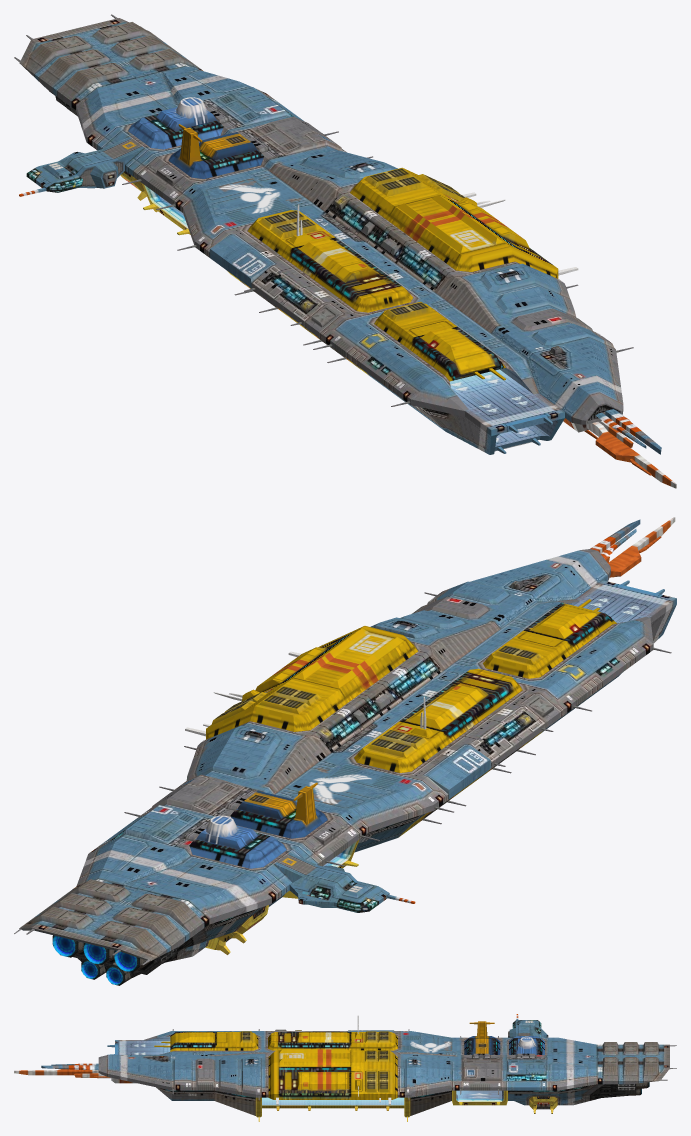
File: hgn-carrier.glb
3 renders of one model, top to bottom at view 1: azimuth 30°, elevation 25°; view 2: azimuth 150°, elevation 25°; view 3: azimuth 270°, elevation 25°, orthographic. The views are drawn at different scales.
Parts seen in each view (by area): view 1: Object_16, Object_17, Object_10, Object_6, Object_11, Object_8, Object_5, Object_2, Object_7, Object_4, Object_18, Object_9 (+1 smaller); view 2: Object_16, Object_17, Object_10, Object_2, Object_6, Object_11, Object_8, Object_5, Object_4, Object_7, Object_18, Object_9 (+3 smaller); view 3: Object_16, Object_17, Object_10, Object_11, Object_6, Object_8, Object_7, Object_5, Object_12, Object_18, Object_9, Object_4 (+2 smaller).
Part boxes in pixels (x1,y1,x2,y2): Object_16: [19, 18, 661, 454]; Object_17: [14, 14, 633, 453]; Object_10: [350, 167, 558, 278]; Object_6: [248, 210, 412, 312]; Object_11: [364, 168, 578, 275]; Object_8: [374, 303, 505, 381]; Object_5: [168, 124, 263, 178]; Object_2: [26, 137, 143, 192]; Object_7: [259, 204, 379, 282]; Object_4: [128, 97, 223, 149]; Object_18: [205, 174, 306, 217]; Object_9: [384, 301, 505, 380]; Object_16: [19, 519, 676, 984]; Object_17: [14, 549, 671, 966]; Object_10: [206, 626, 417, 739]; Object_2: [19, 852, 389, 985]; Object_6: [354, 668, 522, 772]; Object_11: [185, 628, 403, 736]; Object_8: [483, 602, 616, 678]; Object_5: [230, 782, 327, 838]; Object_4: [189, 815, 286, 868]; Object_7: [366, 683, 488, 757]; Object_18: [281, 764, 384, 808]; Object_9: [493, 599, 600, 664]; Object_16: [41, 1014, 669, 1117]; Object_17: [98, 1029, 676, 1121]; Object_10: [268, 1050, 397, 1099]; Object_11: [276, 1049, 391, 1104]; Object_6: [268, 1032, 397, 1050]; Object_8: [170, 1032, 258, 1051]; Object_7: [296, 1015, 390, 1043]; Object_5: [464, 1021, 500, 1054]; Object_12: [14, 1069, 136, 1083]; Object_18: [410, 1038, 451, 1054]; Object_9: [154, 1031, 252, 1047]; Object_4: [509, 1036, 544, 1054].
Size of the model in its own units: 267 by 96.05 by 812.
Materials: 17 (17 with a texture image).
